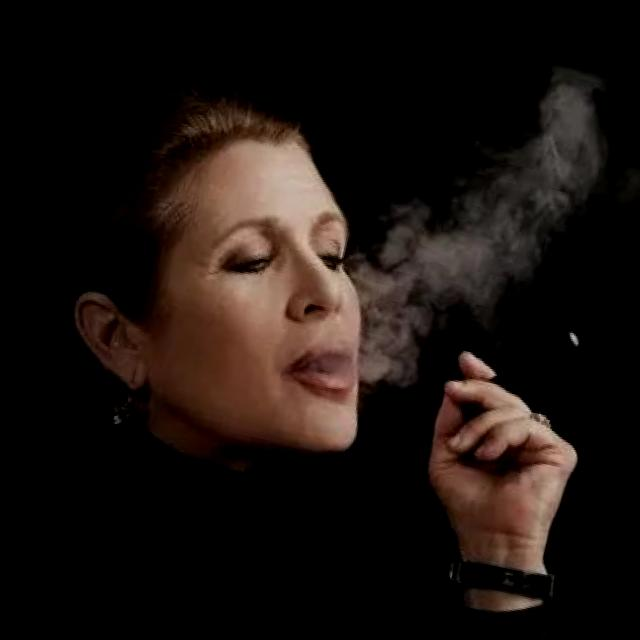smoke: (402, 295, 585, 468)
